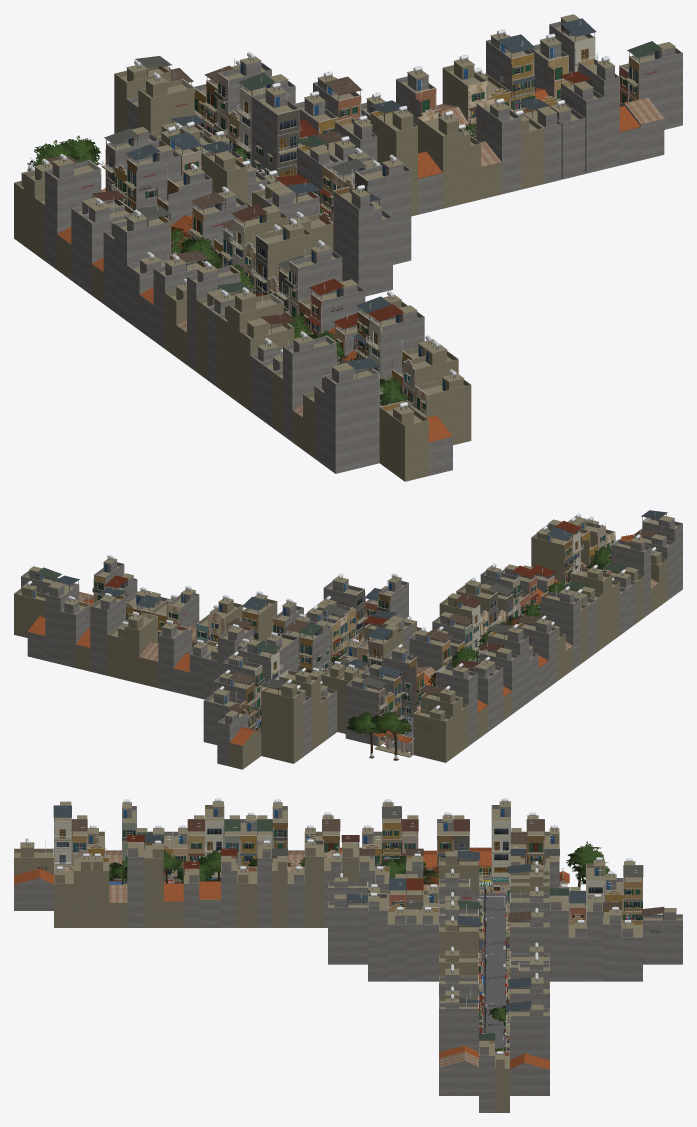
Rendered from play_web.glb.
3 views of the same model, one above another, from view 1: azimuth 30°, elevation 25°; view 2: azimuth 150°, elevation 25°; view 3: azimuth 270°, elevation 25° (orthographic). The views are drawn at different scales.
Parts seen in each view (by area): view 1: HN1_street, HN1_canopy; view 2: HN1_street, HN1_canopy; view 3: HN1_street, HN1_canopy, Game_OriginalMaps_m04_play_alley_road_road, Game_OriginalMaps_m04_play_alley_sidewalk_sidewalk.
Boxes of the visible parts, box(x1,y1,x2,y2) form: HN1_street: box(14, 14, 682, 481); HN1_canopy: box(27, 122, 476, 404); HN1_street: box(14, 510, 682, 769); HN1_canopy: box(159, 546, 611, 735); HN1_street: box(14, 798, 682, 1112); HN1_canopy: box(109, 841, 609, 1051); Game_OriginalMaps_m04_play_alley_road_road: box(164, 896, 508, 1049); Game_OriginalMaps_m04_play_alley_sidewalk_sidewalk: box(479, 893, 506, 1048).
Bounding box in the file's own units: 12640 × 2169 × 15080.
Materials: 133 (78 with a texture image).
